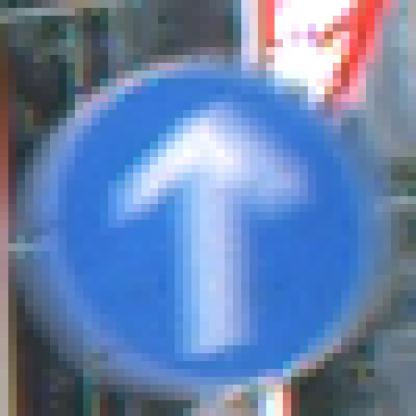AheadOnly: (51, 48, 375, 378)
